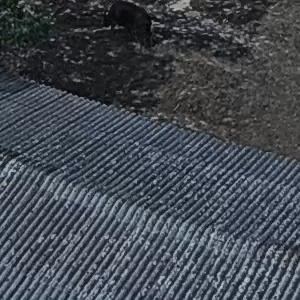cow: (96, 3, 174, 43)
